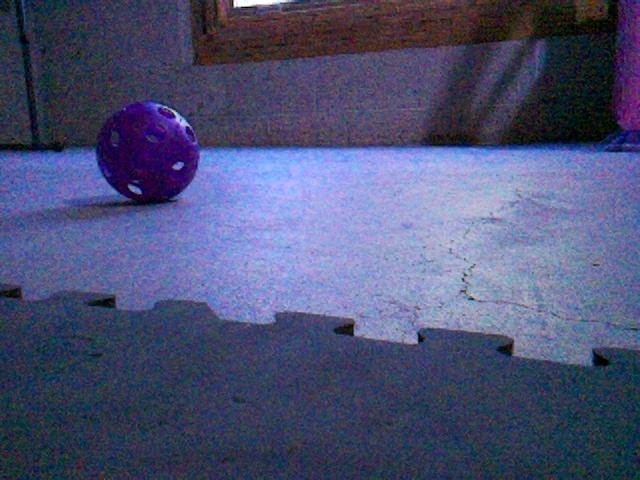Purple: (93, 99, 202, 205)
